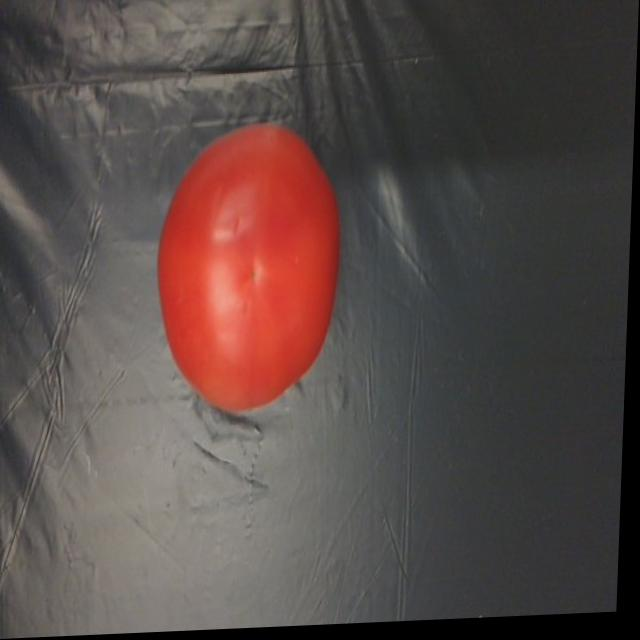kirmizi: (153, 86, 350, 426)
